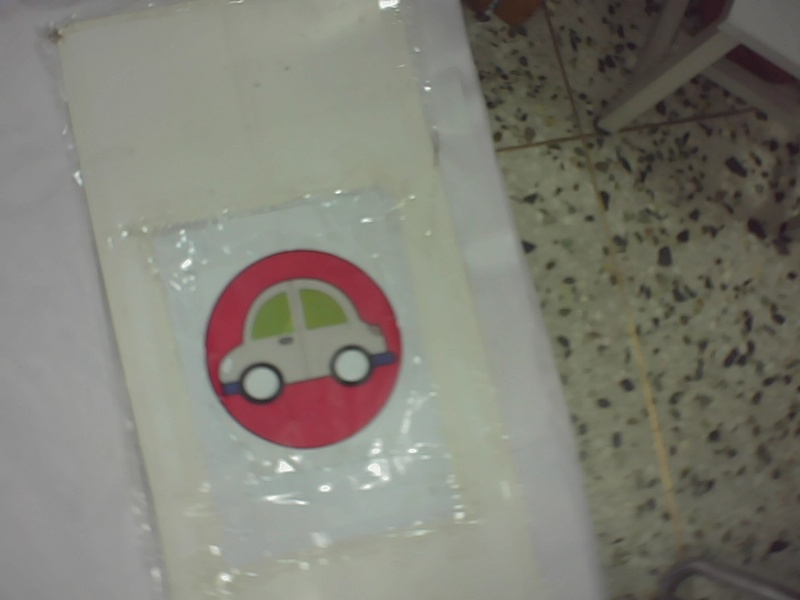areaC: (191, 244, 416, 458)
